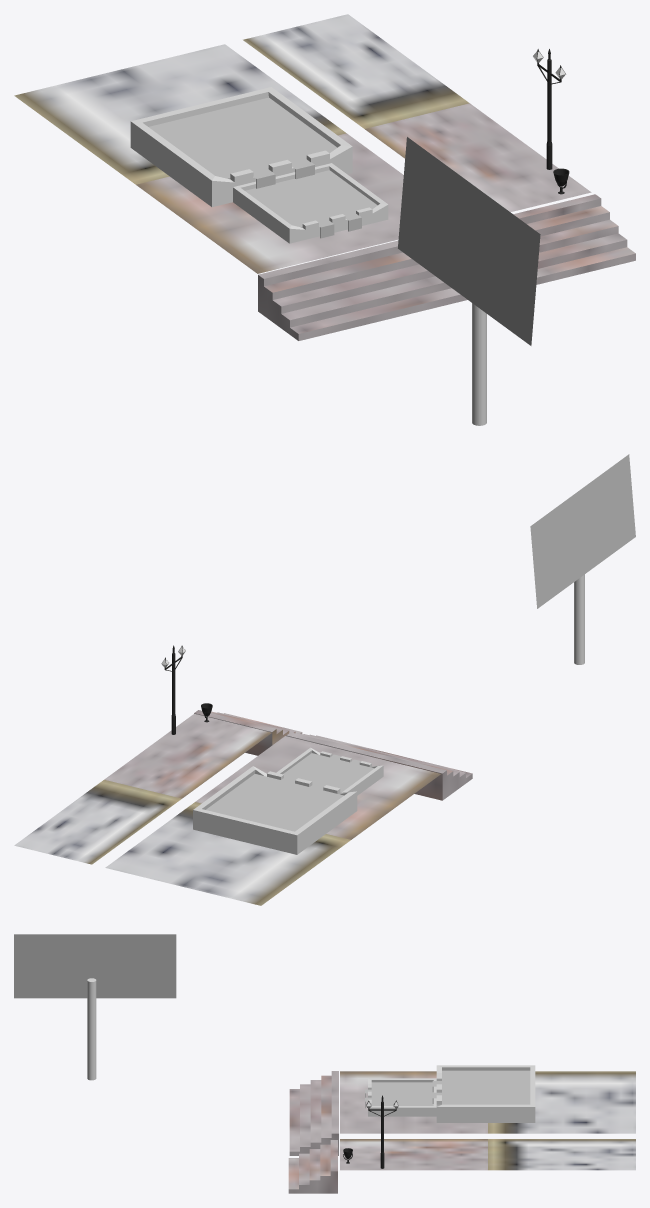
3 views of the same model, one above another, from view 1: azimuth 30°, elevation 25°; view 2: azimuth 150°, elevation 25°; view 3: azimuth 270°, elevation 25° (orthographic). The views are drawn at different scales.
Parts seen in each view (by area): view 1: Plane, Fountain1, Park Tile 6m 2, Park Tile 6x3 2, Stairs1, Park Tile 6m 1, Park Tile 6x3 1, Fountain1.002, Staris 1 3m, Cylinder, Lamp; view 2: Park Tile 6m 2, Fountain1, Plane, Park Tile 6x3 2, Park Tile 6x3 1, Park Tile 6m 1, Fountain1.002, Stairs1, Staris 1 3m, Cylinder; view 3: Plane, Park Tile 6m 2, Fountain1, Park Tile 6x3 2, Park Tile 6x3 1, Park Tile 6m 1, Stairs1, Fountain1.002, Staris 1 3m, Cylinder, Lamp.
Part boxes in pixels (x1,y1,x2,y2): Plane: (398, 137, 540, 345); Fountain1: (130, 87, 352, 207); Park Tile 6m 2: (14, 44, 346, 184); Park Tile 6x3 2: (243, 14, 469, 128); Stairs1: (258, 240, 467, 340); Park Tile 6m 1: (136, 133, 403, 273); Park Tile 6x3 1: (365, 103, 591, 212); Fountain1.002: (233, 163, 388, 243); Staris 1 3m: (513, 194, 635, 284); Cylinder: (472, 303, 486, 425); Lamp: (533, 49, 565, 169); Park Tile 6m 2: (105, 802, 350, 905); Fountain1: (193, 766, 357, 854); Plane: (530, 454, 635, 608); Park Tile 6x3 2: (14, 779, 181, 864); Park Tile 6x3 1: (104, 713, 271, 798); Park Tile 6m 1: (195, 736, 440, 839); Fountain1.002: (276, 747, 383, 795); Stairs1: (286, 732, 472, 800); Staris 1 3m: (194, 710, 302, 755); Cylinder: (574, 574, 584, 664); Plane: (14, 934, 176, 998); Park Tile 6m 2: (488, 1071, 635, 1133); Fountain1: (432, 1065, 535, 1122); Park Tile 6x3 2: (488, 1139, 635, 1170); Park Tile 6x3 1: (340, 1139, 487, 1170); Park Tile 6m 1: (340, 1071, 487, 1133); Stairs1: (289, 1071, 338, 1155); Fountain1.002: (365, 1078, 436, 1116); Staris 1 3m: (288, 1140, 337, 1193); Cylinder: (87, 978, 96, 1080); Lamp: (366, 1095, 398, 1168).
Size of the model in its own units: 9.57 by 7.34 by 25.22.
